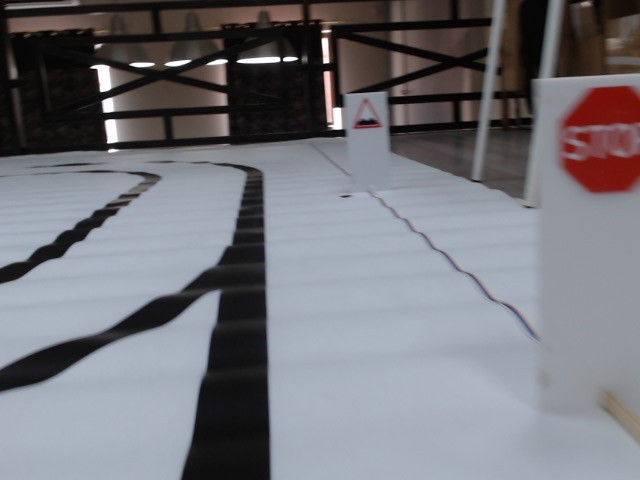Nerov: (350, 99, 384, 131)
